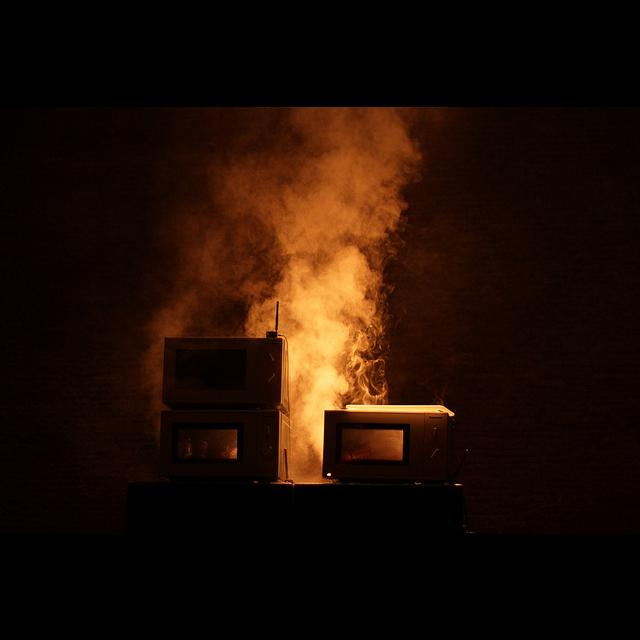Microwave: (321, 404, 456, 484), (160, 336, 290, 415), (158, 409, 290, 482)
